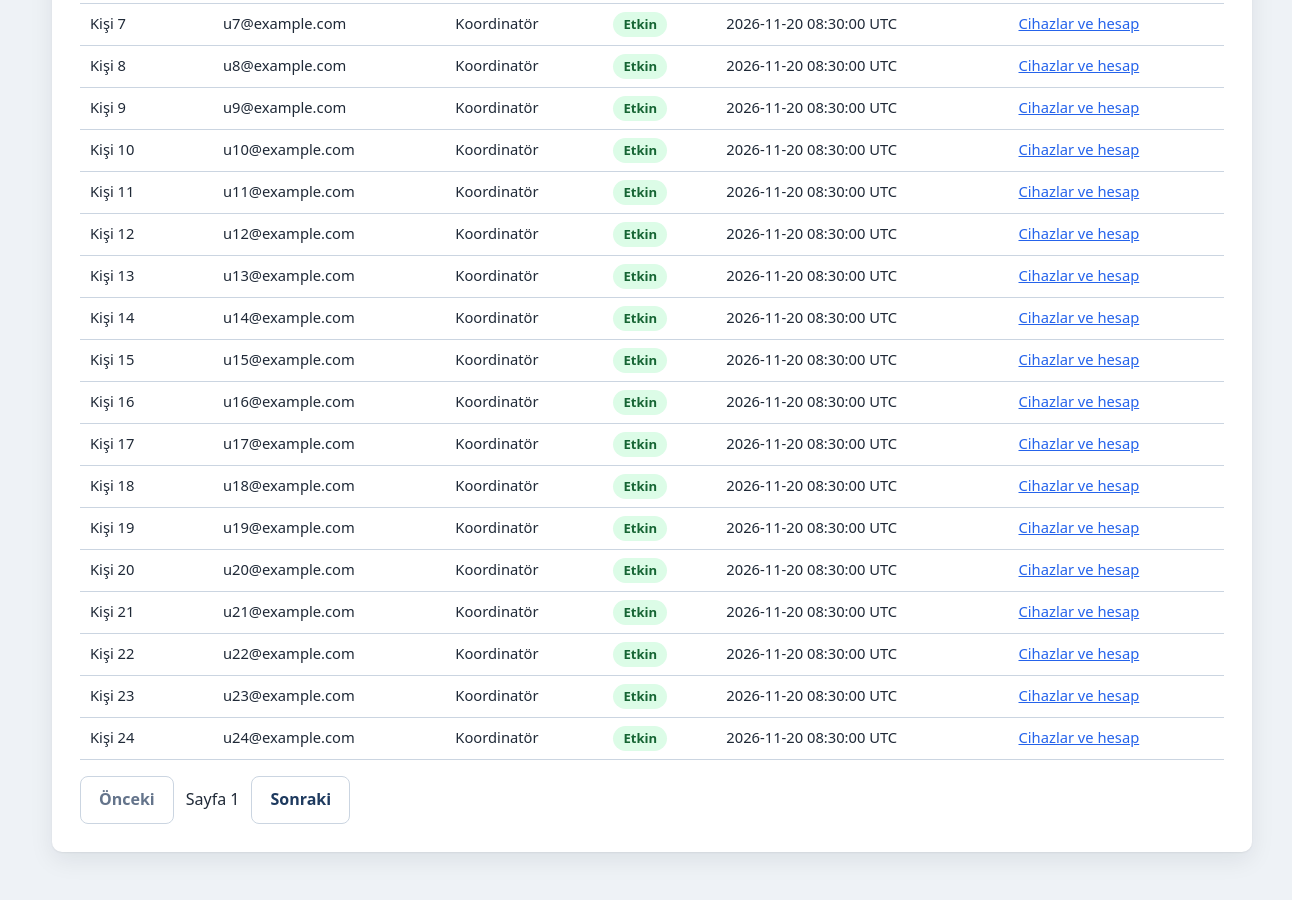
Scenario: UsersPage › pages with 25 rows and limit 26
(page scrolled)
Expected: the button "Önceki" is disabled, x1=80 y1=776 x2=174 y2=824
Click the button "Sonraki".
click(301, 800)  # box x1=252 y1=776 x2=350 y2=824
(page scrolled)
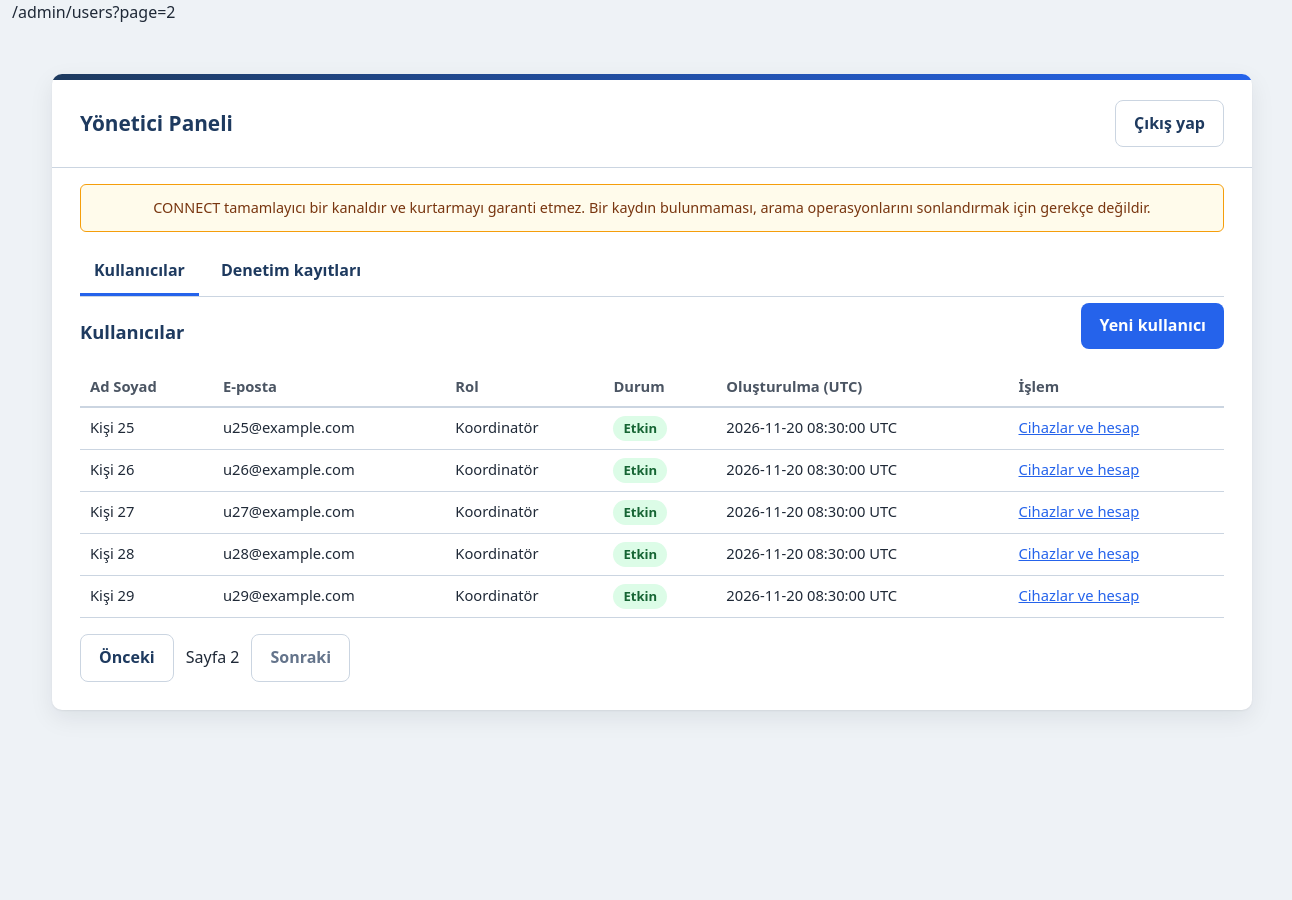
Result: the text with test id "location" reads "/admin/users?page=2" at x1=12 y1=1 x2=176 y2=23
Result: the text "Sayfa 2" is shown at x1=186 y1=645 x2=239 y2=671
Result: the button "Sonraki" is disabled at x1=252 y1=634 x2=350 y2=682
